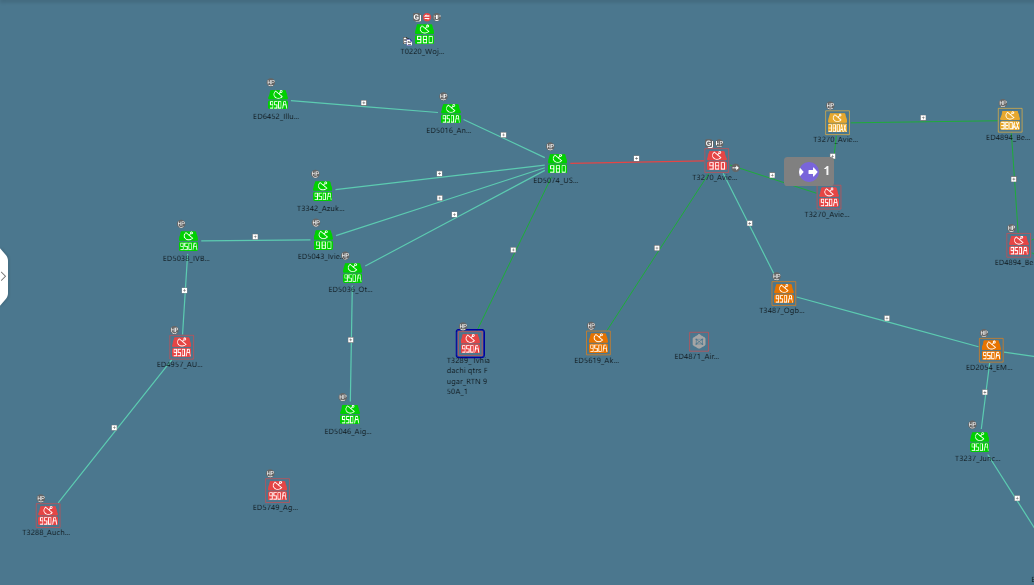Link_Blue: (55, 360, 166, 501), (365, 173, 532, 265), (333, 166, 533, 242), (805, 296, 984, 352), (721, 173, 774, 281), (986, 451, 1032, 525), (339, 166, 498, 187), (462, 115, 541, 155), (349, 102, 441, 120), (346, 289, 357, 404), (979, 368, 987, 415)
Link_Green: (604, 173, 712, 333), (475, 173, 557, 333), (743, 166, 813, 197), (1011, 184, 1023, 236), (830, 134, 842, 152)
RTN_Green: (313, 179, 338, 204), (339, 406, 364, 430), (313, 231, 338, 255), (546, 154, 570, 178), (178, 231, 202, 255), (268, 89, 292, 113), (346, 263, 364, 288), (973, 431, 990, 456), (417, 24, 433, 49), (443, 102, 459, 126)
RTN_Orange: (772, 283, 797, 307), (979, 341, 1003, 365), (585, 335, 607, 359)
RTN_Red: (456, 335, 486, 359), (818, 186, 842, 210), (1005, 231, 1029, 255), (708, 147, 732, 170), (171, 335, 195, 357), (36, 503, 58, 525), (268, 483, 292, 501)
RTN_Yellow: (998, 108, 1023, 133), (824, 115, 847, 139)
